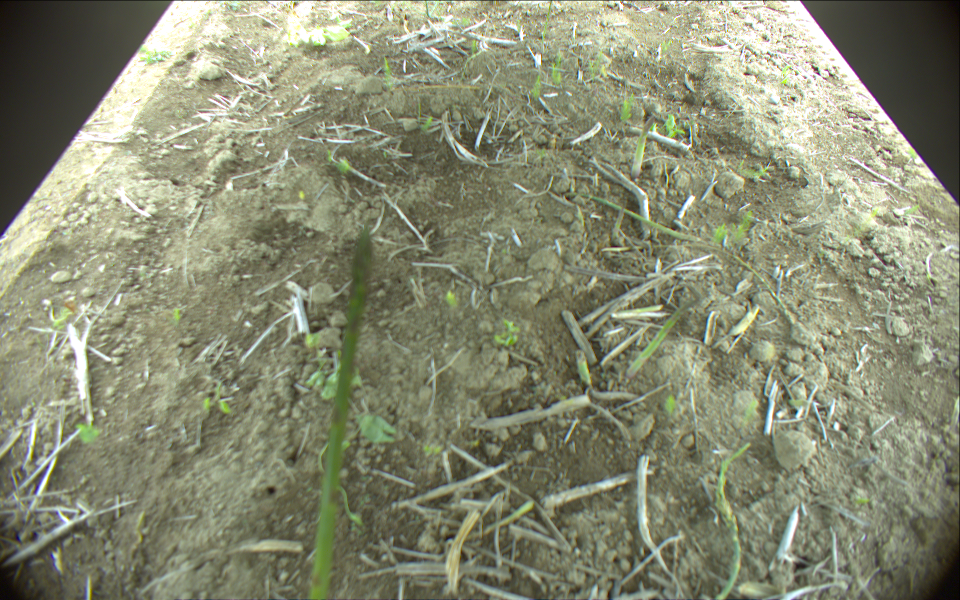aspa: (304, 226, 372, 600), (567, 190, 781, 301), (709, 441, 755, 600), (626, 298, 692, 376), (631, 116, 658, 178), (541, 1, 554, 42), (577, 351, 591, 389)
